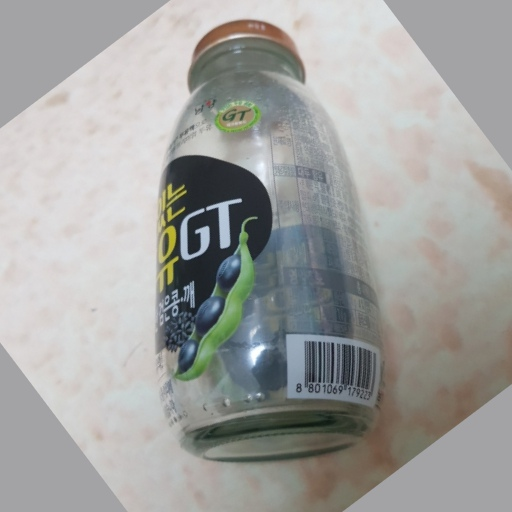Glass_4: (152, 20, 386, 466)
